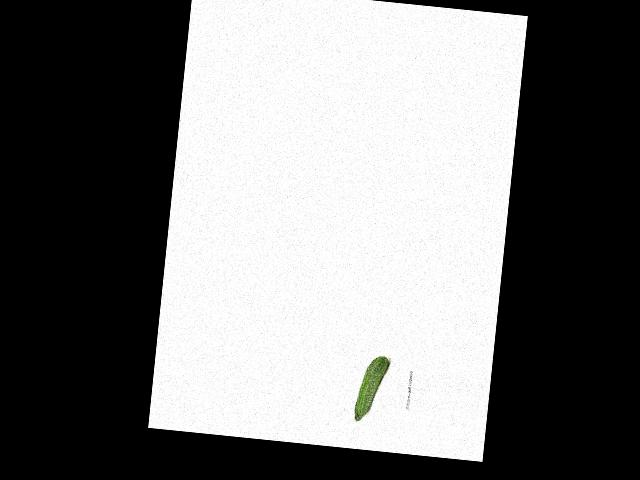cucumber: (353, 354, 389, 425)
